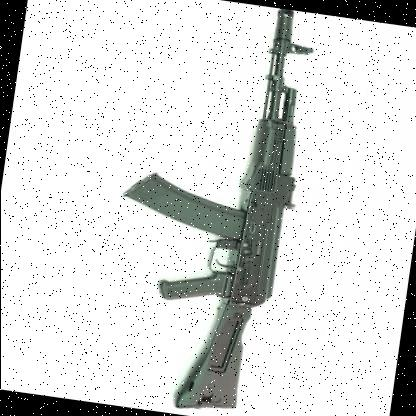rifle: (85, 0, 350, 416)
